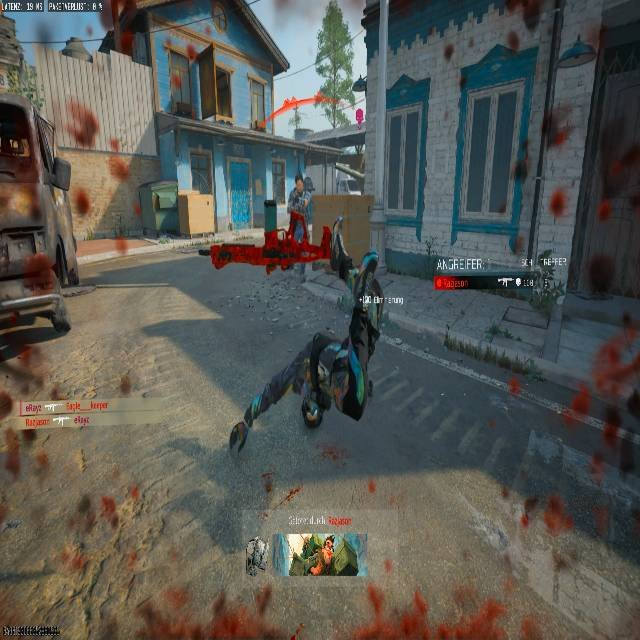head: (294, 175, 303, 187)
player: (226, 312, 377, 452), (287, 176, 313, 242)
